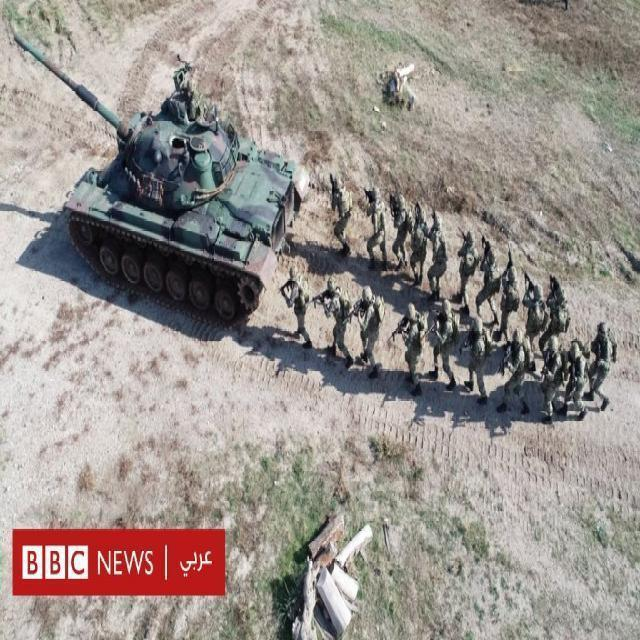MIL_MBT: (8, 28, 311, 330)
